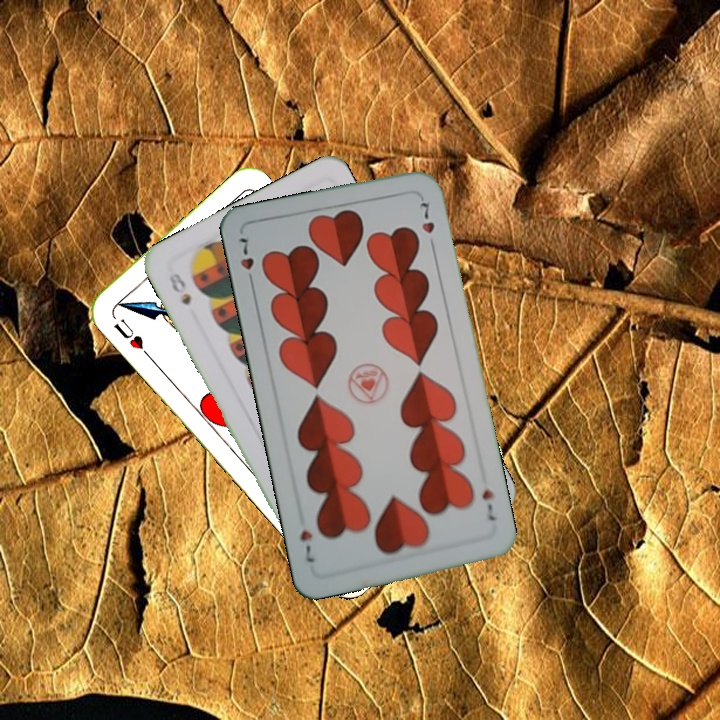H7: (233, 233, 257, 289), (478, 485, 498, 524)
HU: (109, 314, 153, 360)
S8: (164, 269, 194, 308)
